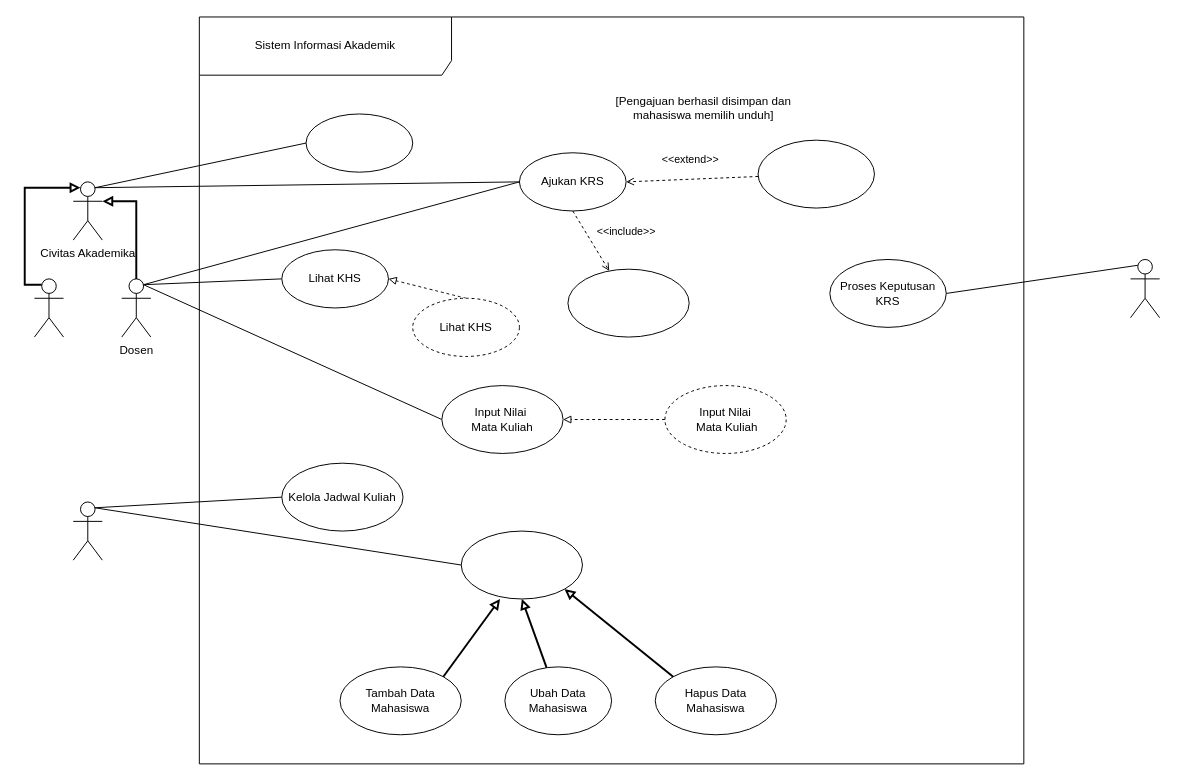
The diagram is 1191 pixels wide and 781 high, and some of its shapes have lost their labels. Here are the shapes that lost their labels. From the top down, the box of each, then its label:
(305, 113, 413, 172): Lihat Kalender Akademik
(757, 139, 874, 208): Unduh Bukti Pengajuan
(33, 278, 64, 337): Mahasiswa
(567, 268, 689, 337): Validasi KRS
(1130, 259, 1160, 318): Dosen Wali
(72, 501, 102, 560): Admin Akademik
(460, 530, 582, 599): Kelola Data Mahasiswa
